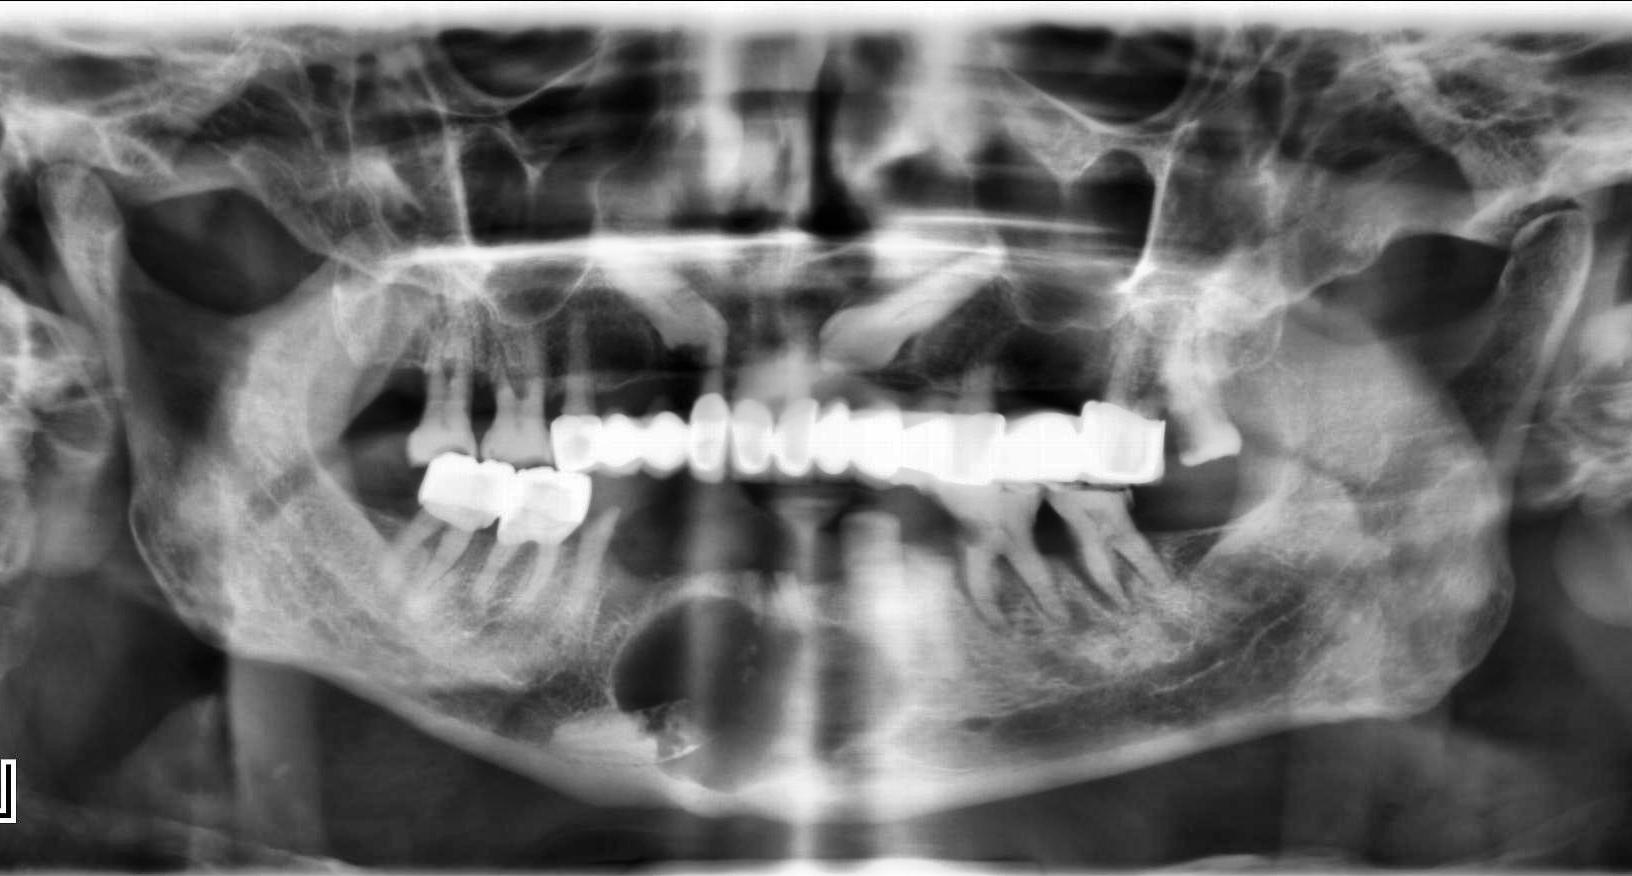radikuler: (609, 593, 911, 796)
